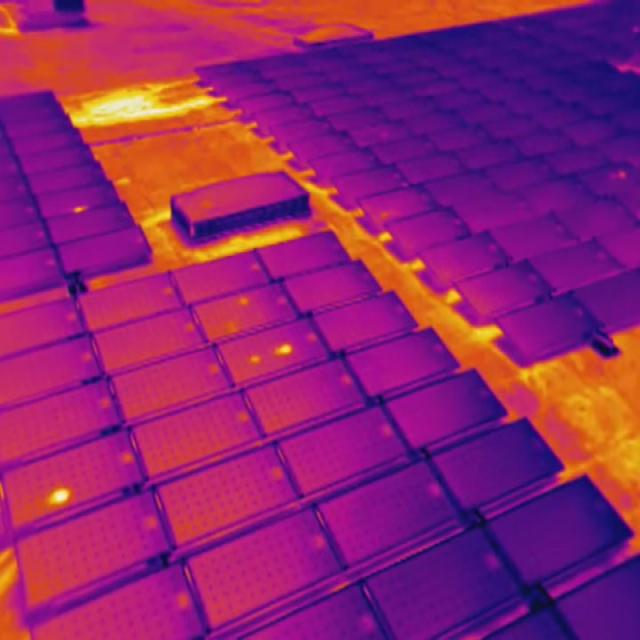Orange-Spots: (48, 486, 70, 506), (273, 344, 293, 359), (616, 169, 626, 179), (73, 204, 86, 211), (633, 24, 639, 30)
